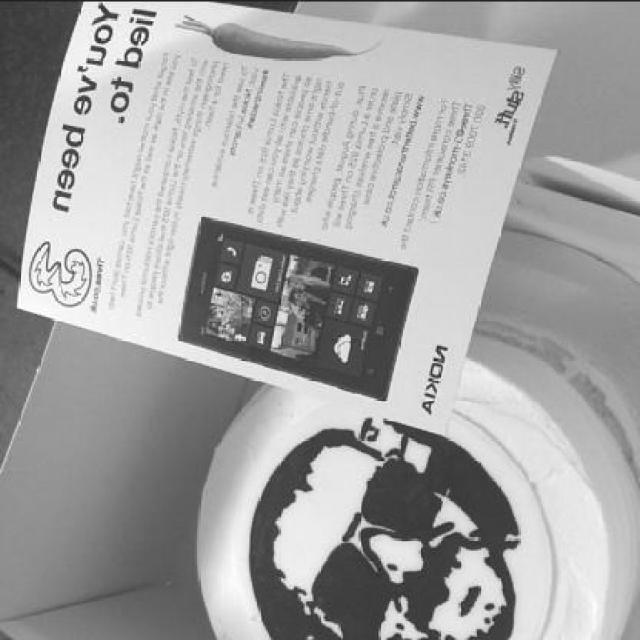fake: (166, 193, 408, 364)
